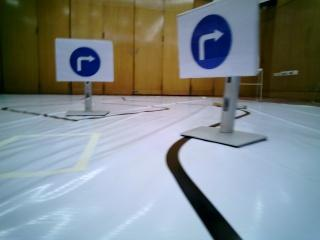right: (179, 15, 253, 73), (60, 40, 113, 80)
